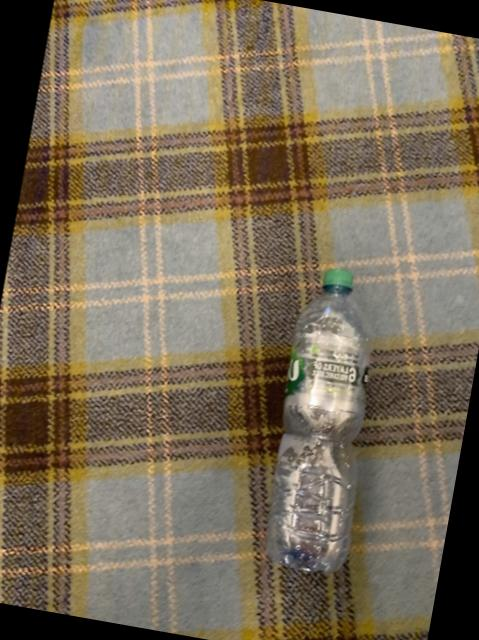plastic: (267, 266, 369, 569)
